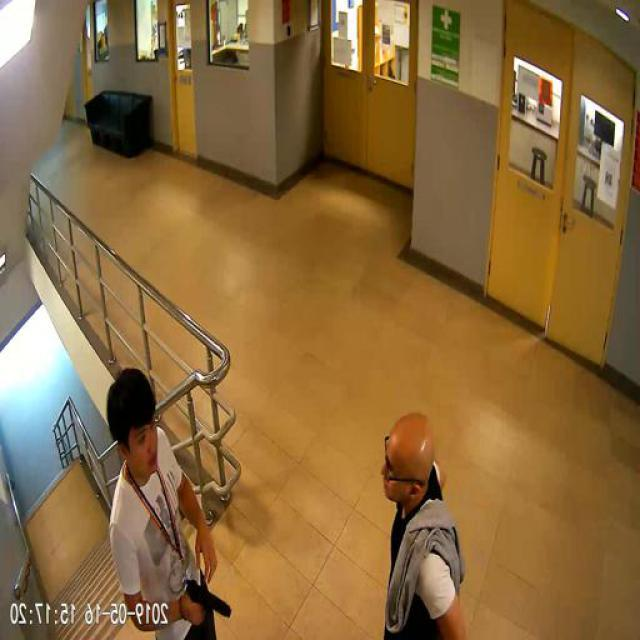Gun: (188, 578, 234, 624)
